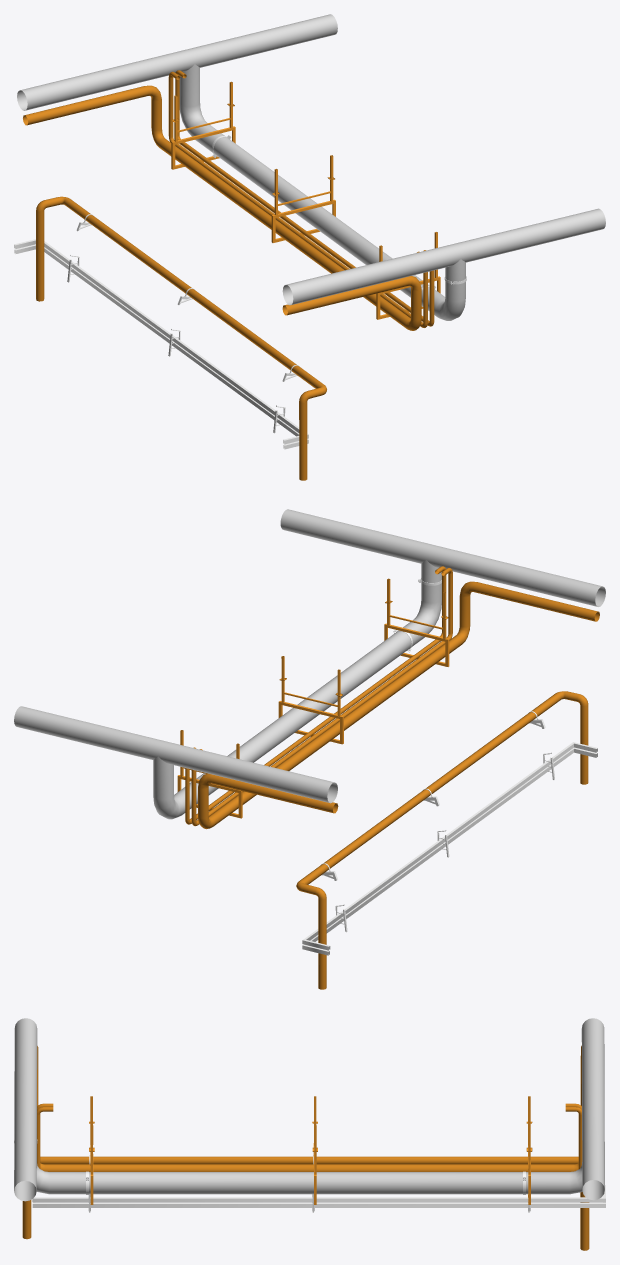
File: SM_H_Building_Tide_Waterway_05b_ATLAS.fbx
3 views of the same model, one above another, from view 1: azimuth 30°, elevation 25°; view 2: azimuth 150°, elevation 25°; view 3: azimuth 270°, elevation 25° (orthographic). The views are drawn at different scales.
Parts seen in each view (by area): view 1: SM_H_Building_Tide_Waterway_05b_ATLAS; view 2: SM_H_Building_Tide_Waterway_05b_ATLAS; view 3: SM_H_Building_Tide_Waterway_05b_ATLAS.
Boxes of the visible parts, x1,y1,x2,y2 form: SM_H_Building_Tide_Waterway_05b_ATLAS: (14, 14, 605, 480); SM_H_Building_Tide_Waterway_05b_ATLAS: (14, 509, 605, 989); SM_H_Building_Tide_Waterway_05b_ATLAS: (14, 1018, 605, 1250).
Bounding box in the file's own units: 1262 × 1927 × 803.
